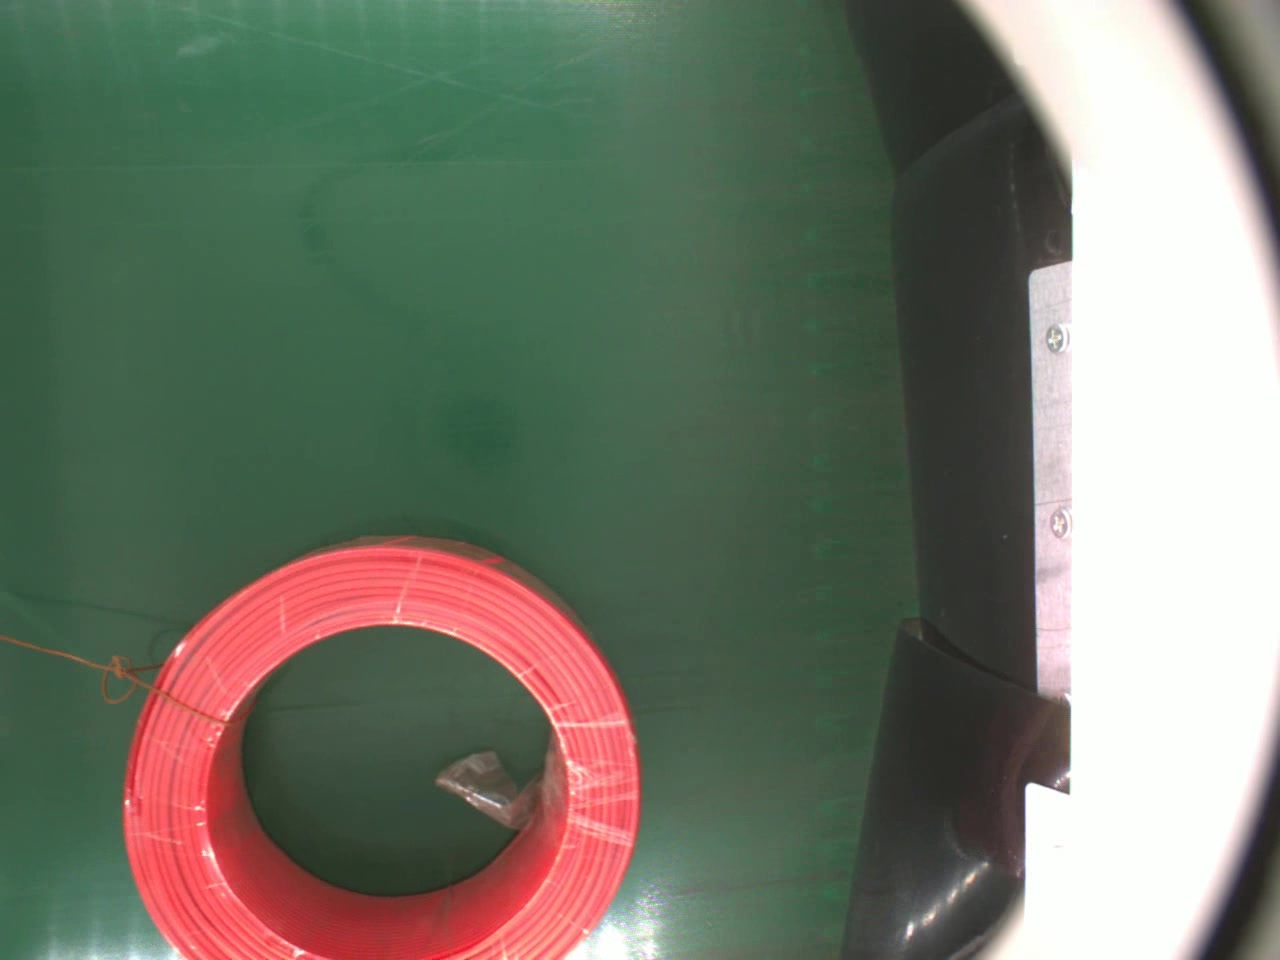red: (118, 530, 648, 960)
